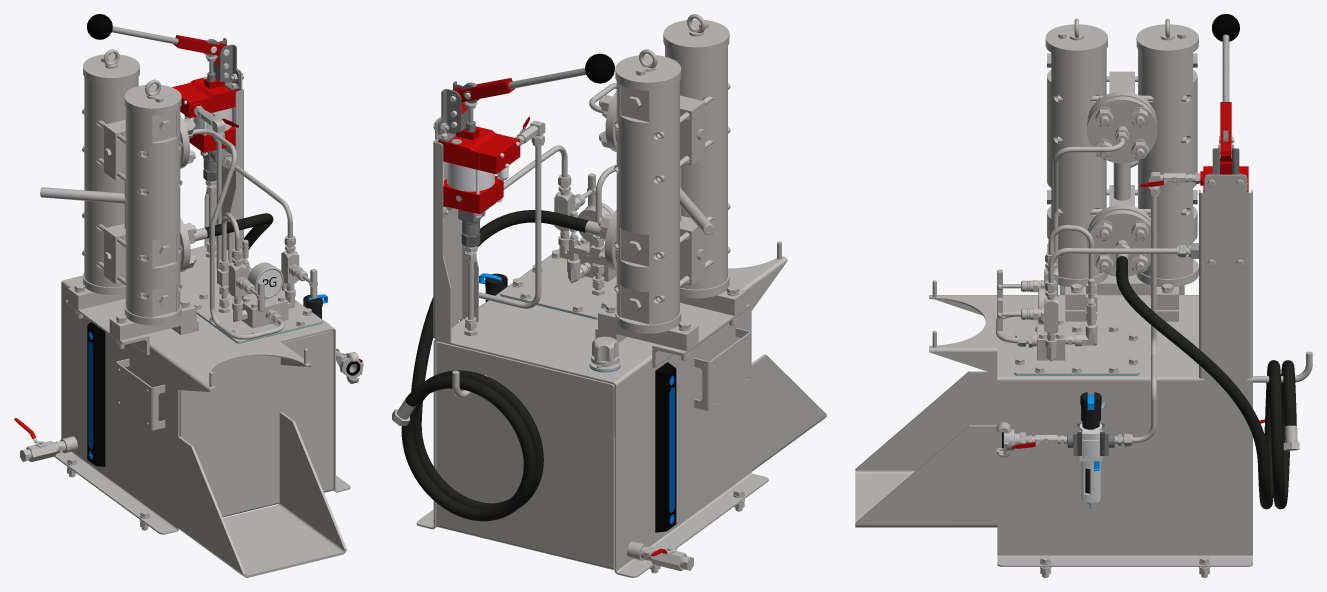
The model's file is TCU-TANK-50L-003.glb.
3 views of the same model, side by side, from view 1: azimuth 30°, elevation 25°; view 2: azimuth 150°, elevation 25°; view 3: azimuth 270°, elevation 25° (orthographic). The views are drawn at different scales.
Parts seen in each view (by area): view 1: Solido1 (×12), Solido2 (×3), Solido6 (×2), Solid1, Solido446, Solido8, Solido5; view 2: Solido1 (×10), Solido2 (×2), Solido446, Solid1 (×2), Solido6, Solido8; view 3: Solido1 (×9), Solido2 (×3), Solido446, Solid1 (×3), Solido6 (×2), Solido8, Solido5.
Boxes of the visible parts, x1,y1,x2,y2 form: Solido1 (×12): (40, 49, 363, 577); Solido2 (×3): (87, 14, 288, 328); Solido6 (×2): (192, 129, 286, 339); Solid1: (65, 300, 149, 354); Solido446: (205, 213, 273, 249); Solido8: (234, 164, 292, 238); Solido5: (221, 212, 240, 262); Solido1 (×10): (416, 14, 826, 577); Solido2 (×2): (433, 53, 614, 342); Solido446: (401, 210, 588, 521); Solid1 (×2): (604, 209, 749, 367); Solido6: (460, 146, 541, 320); Solido8: (503, 145, 567, 189); Solido1 (×9): (855, 18, 1252, 566); Solido2 (×3): (1037, 14, 1252, 383); Solido446: (1116, 256, 1296, 509); Solid1 (×3): (1059, 96, 1184, 294); Solido6 (×2): (996, 138, 1156, 442); Solido8: (1048, 248, 1177, 282); Solido5: (1048, 225, 1094, 278).
Size of the model in its own units: 0.547 by 0.9431 by 0.8053.
49 materials, 2 textured.
